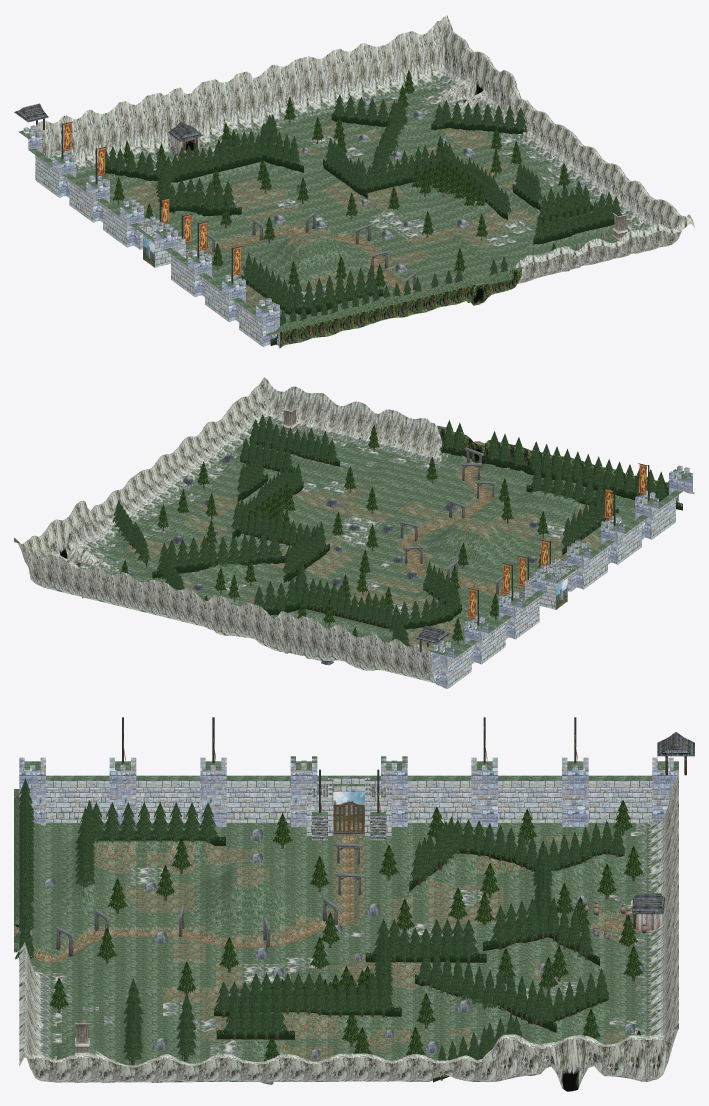
Rendered from drgnfld.gltf.
The picture shows the model from 3 angles, top to bottom: view 1: azimuth 30°, elevation 25°; view 2: azimuth 150°, elevation 25°; view 3: azimuth 270°, elevation 25°; orthographic projection. The views are drawn at different scales.
Bounding box in the file's own units: 124 × 23.8 × 128.
Materials: 29 (29 with a texture image).
